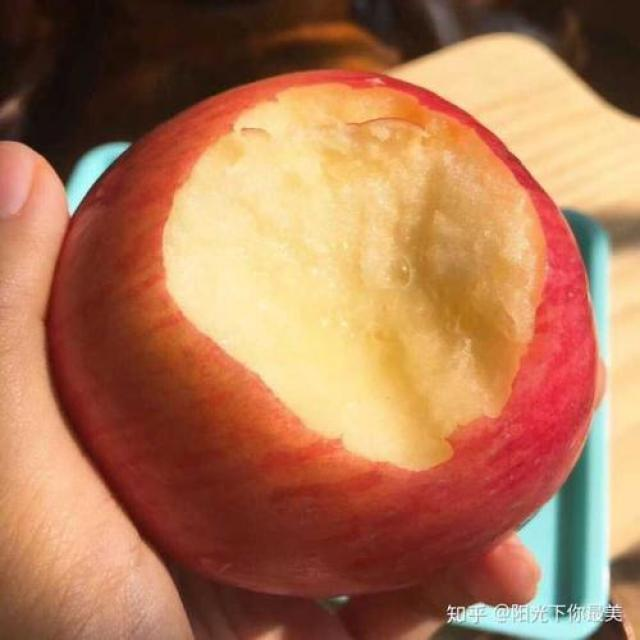Apple: (50, 57, 603, 605)
